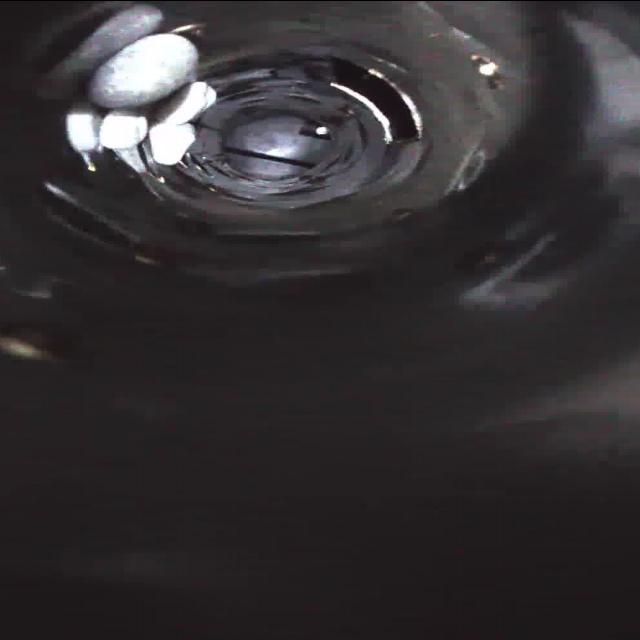crack: (194, 62, 310, 102), (205, 180, 339, 210), (330, 107, 377, 172), (160, 122, 211, 172)
hole: (328, 57, 428, 143)
